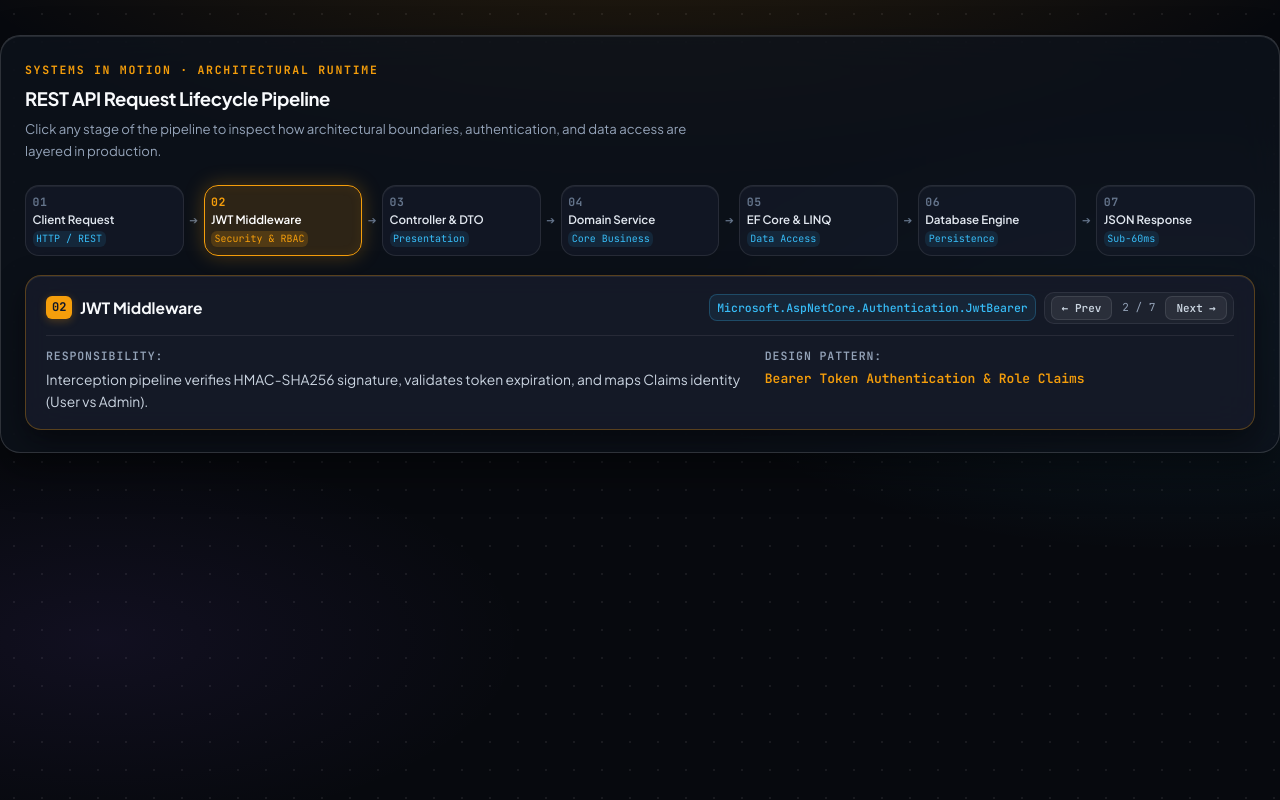
supports stepping through pipeline stages via Next and Prev controls
Expected: the text "2 / 7" is shown, [1122,300,1155,314]
Note: Click Next
Click the button with aria-label "Next pipeline stage" at (1196, 308), box [1165,296,1227,320]
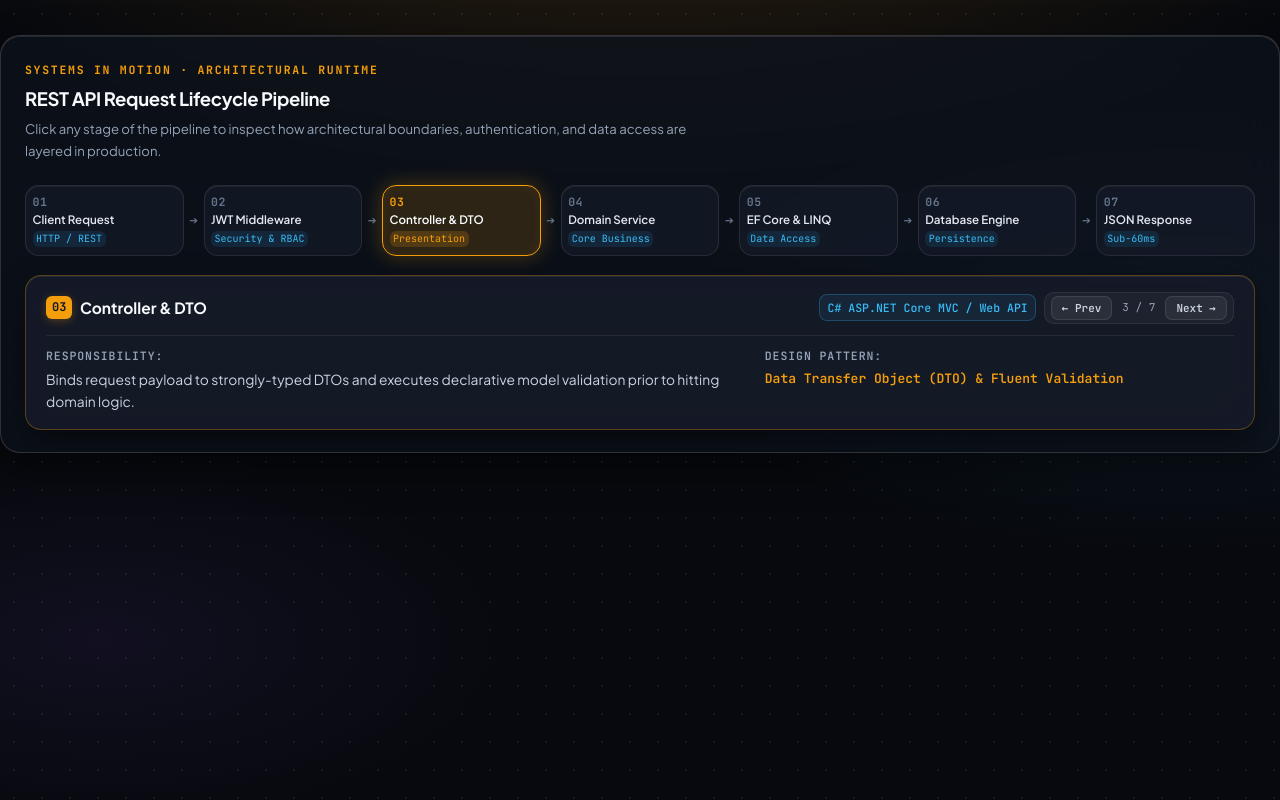
Expected: the text "3 / 7" is shown, [1122,300,1155,314]
Note: Click Prev
Click the button with aria-label "Previous pipeline stage" at (1082, 308), box [1051,296,1112,320]
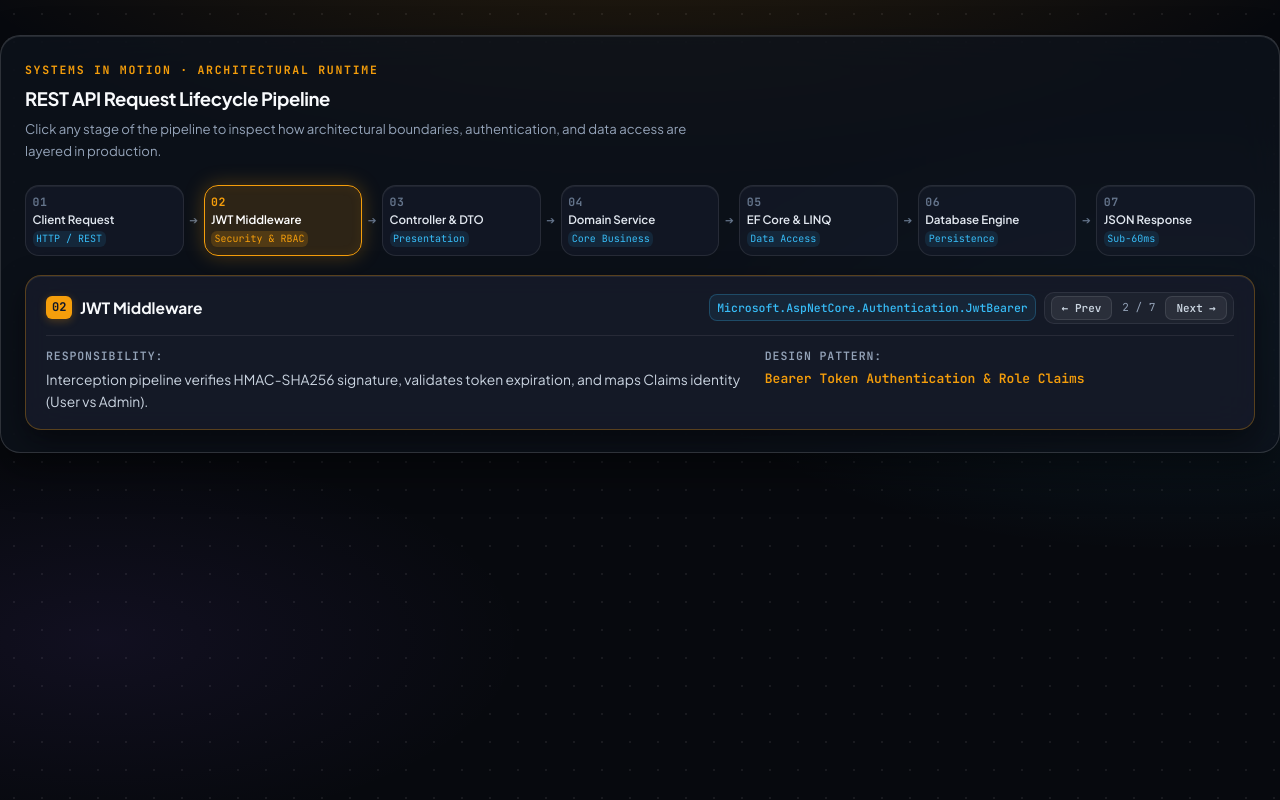
Expected: the text "2 / 7" is shown, [1122,300,1155,314]
